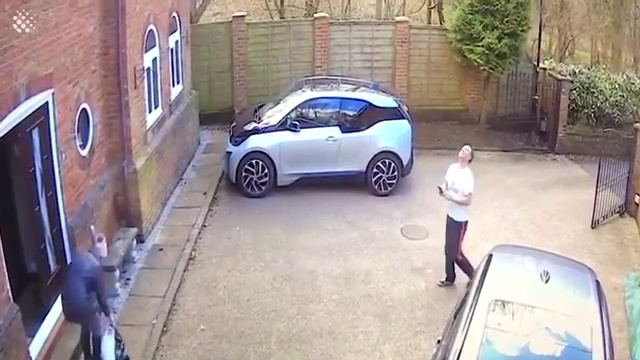face: (458, 145, 473, 158)
